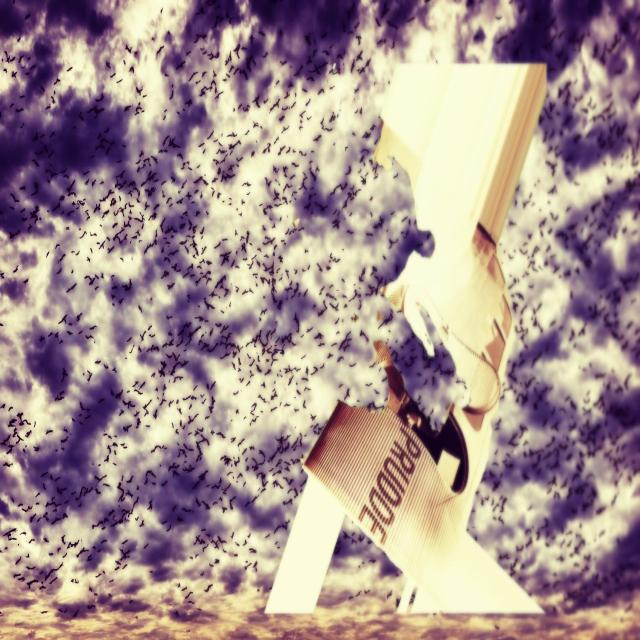airplane: (263, 60, 548, 617)
